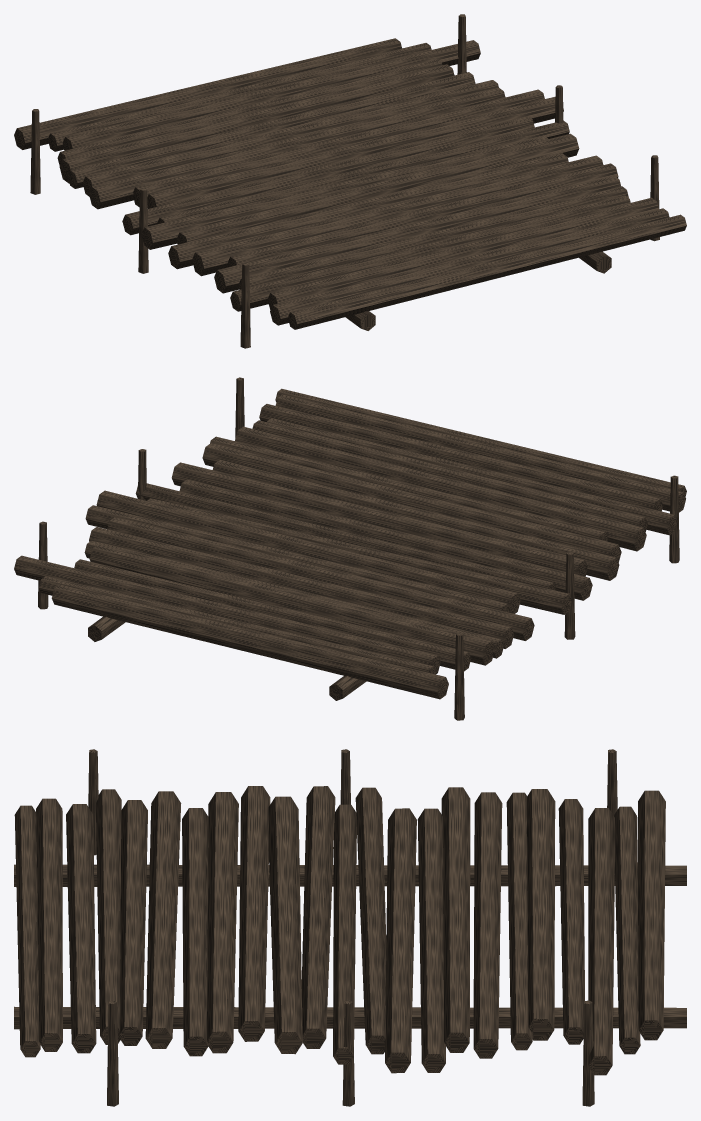
Rendered from passerella.glb.
3 renders of one model, top to bottom at view 1: azimuth 30°, elevation 25°; view 2: azimuth 150°, elevation 25°; view 3: azimuth 270°, elevation 25°, orthographic. The views are drawn at different scales.
Parts seen in each view (by area): view 1: passerella; view 2: passerella; view 3: passerella.
Boxes of the visible parts, x1,y1,x2,y2 form: passerella: (14,14,686,348); passerella: (14,377,686,720); passerella: (14,749,686,1106).
Size of the model in its own units: 5.63 by 1 by 6.
1 material, 1 textured.
